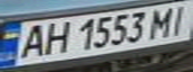1: (72, 16, 96, 52)
3: (124, 9, 154, 43)
5: (90, 14, 115, 48), (109, 11, 133, 46)
A: (12, 21, 51, 60)
H: (36, 19, 72, 56)
I: (163, 2, 193, 36)
M: (145, 4, 178, 38)
